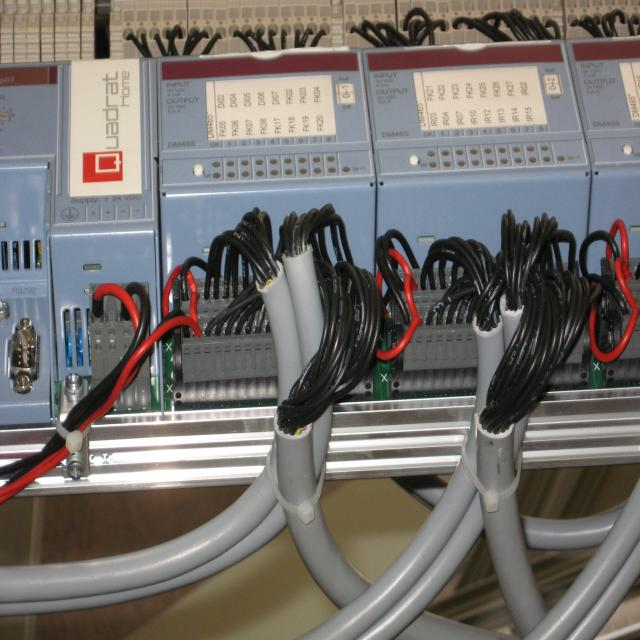SPS-System -Steuerungskomponente-: (367, 38, 590, 188), (157, 49, 377, 196), (0, 60, 157, 238)
